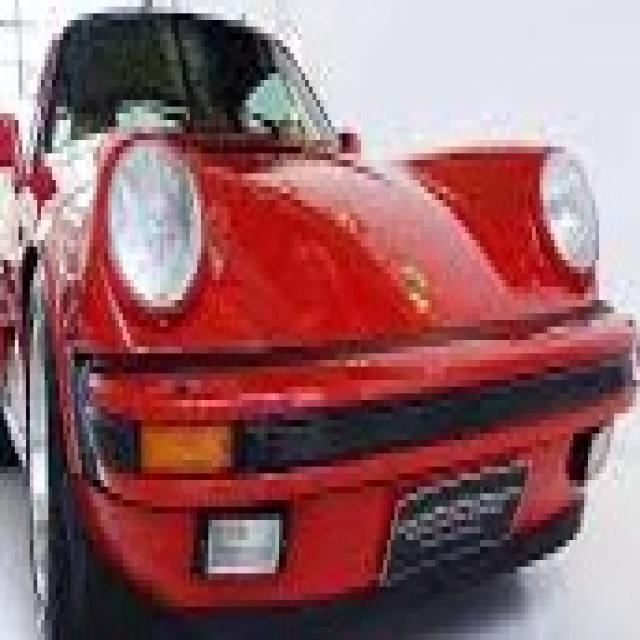red: (1, 14, 637, 634)
